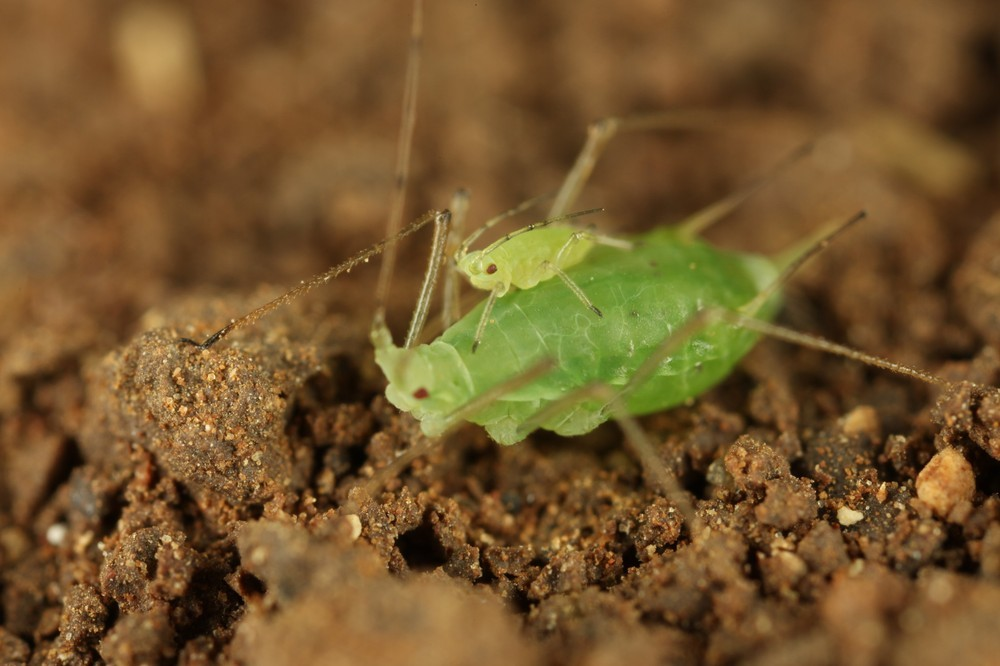Pulgon: (274, 131, 931, 493), (422, 186, 645, 320)
